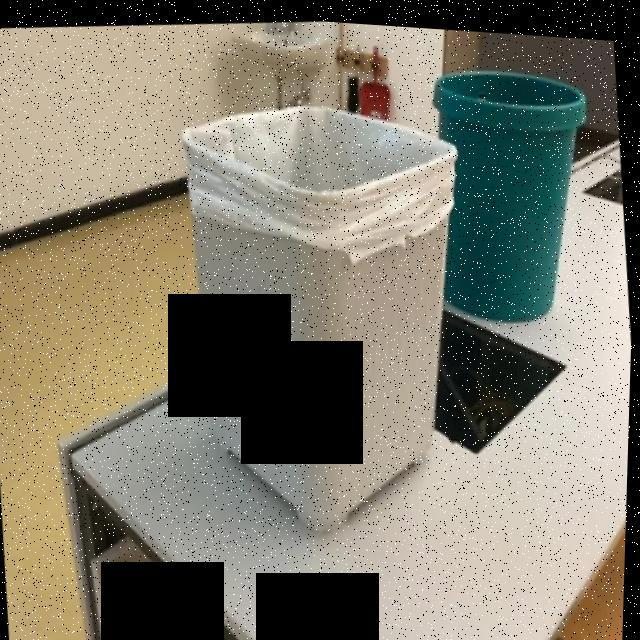bin: (121, 54, 495, 564), (393, 21, 638, 341)
